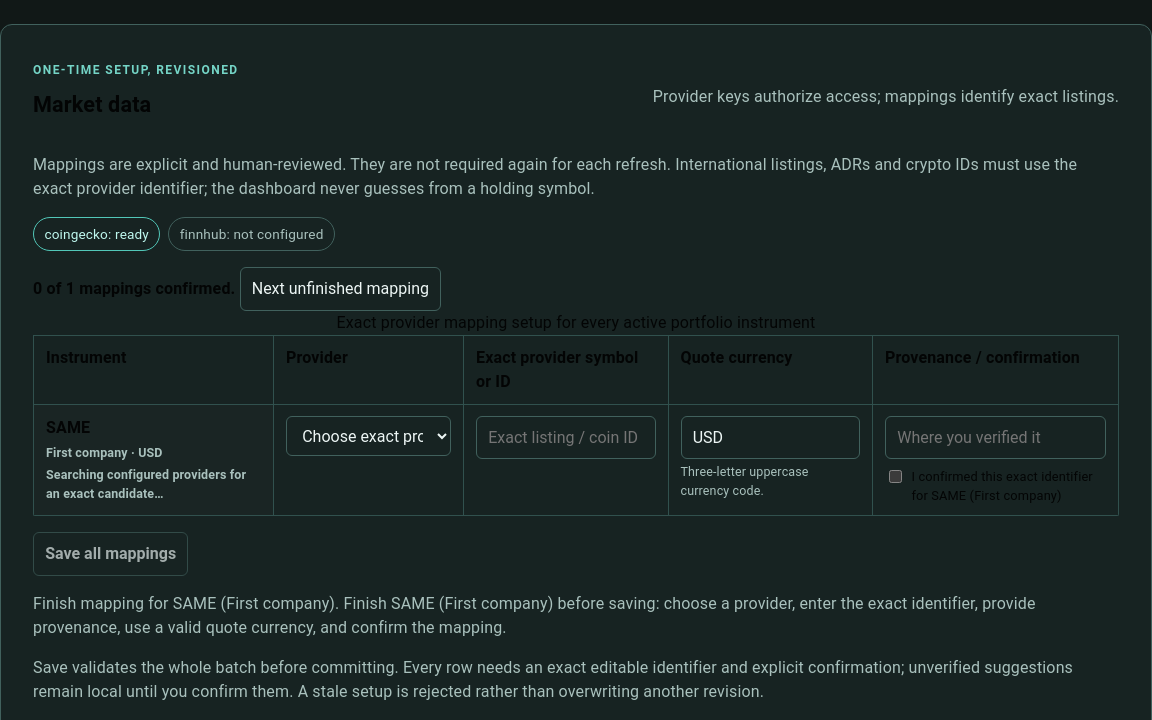
MarketDataPanel › blocks a mapping with invalid quote currency  without a save request
The width and height of the screenshot is (1152, 720).
Step 1. Select "coingecko" in the dropdown → (368, 436), box x1=286 y1=416 x2=451 y2=456
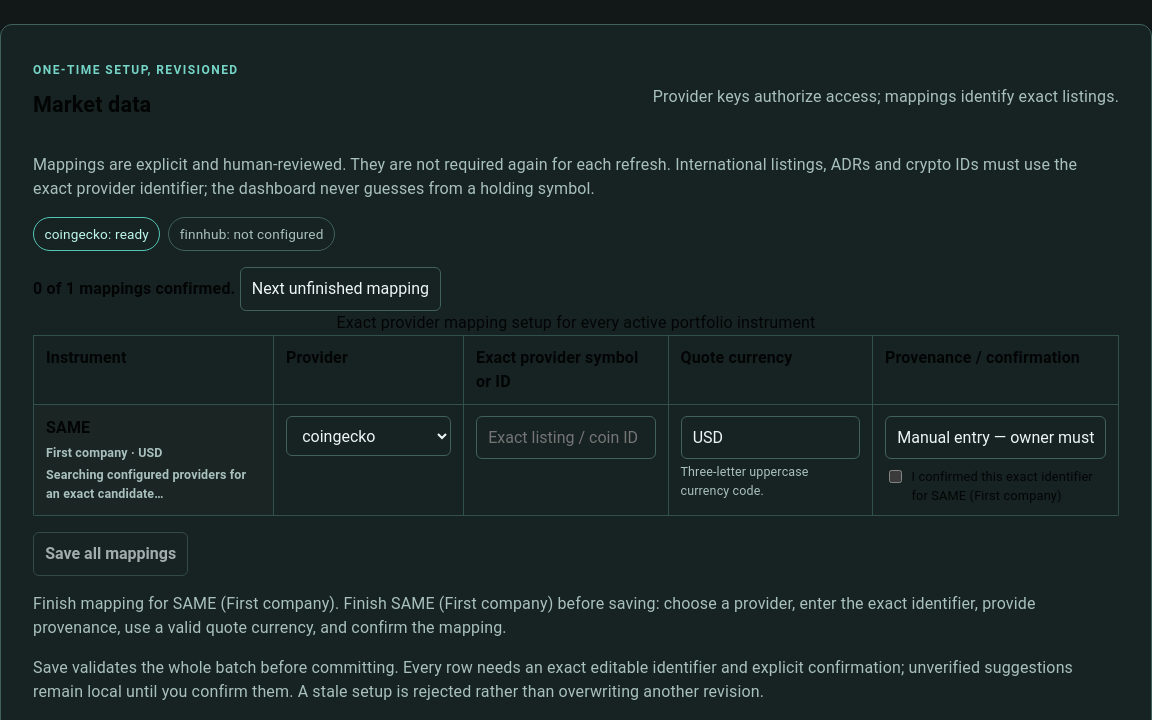
Step 2. Type "coin-0" into the field with placeholder "Exact listing / coin ID" → (566, 438), box x1=476 y1=416 x2=656 y2=459
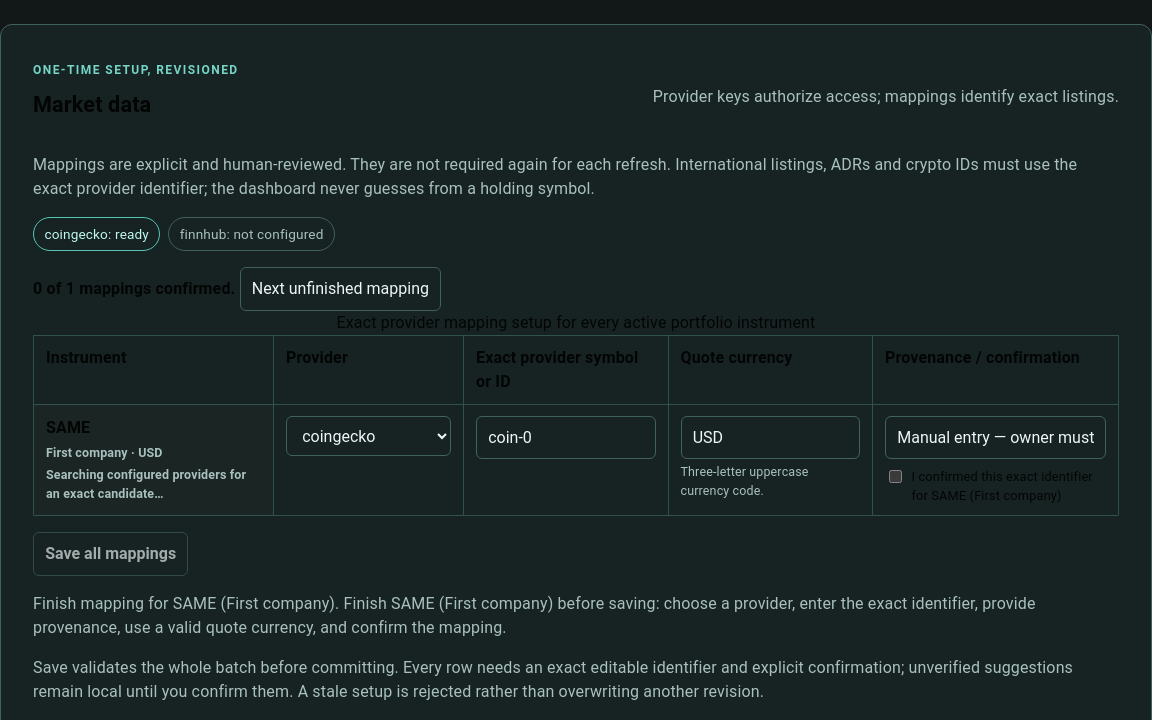
Step 3. Replace the text in the field with placeholder "Where you verified it" with "provider listing" → (996, 438), box x1=885 y1=416 x2=1106 y2=459
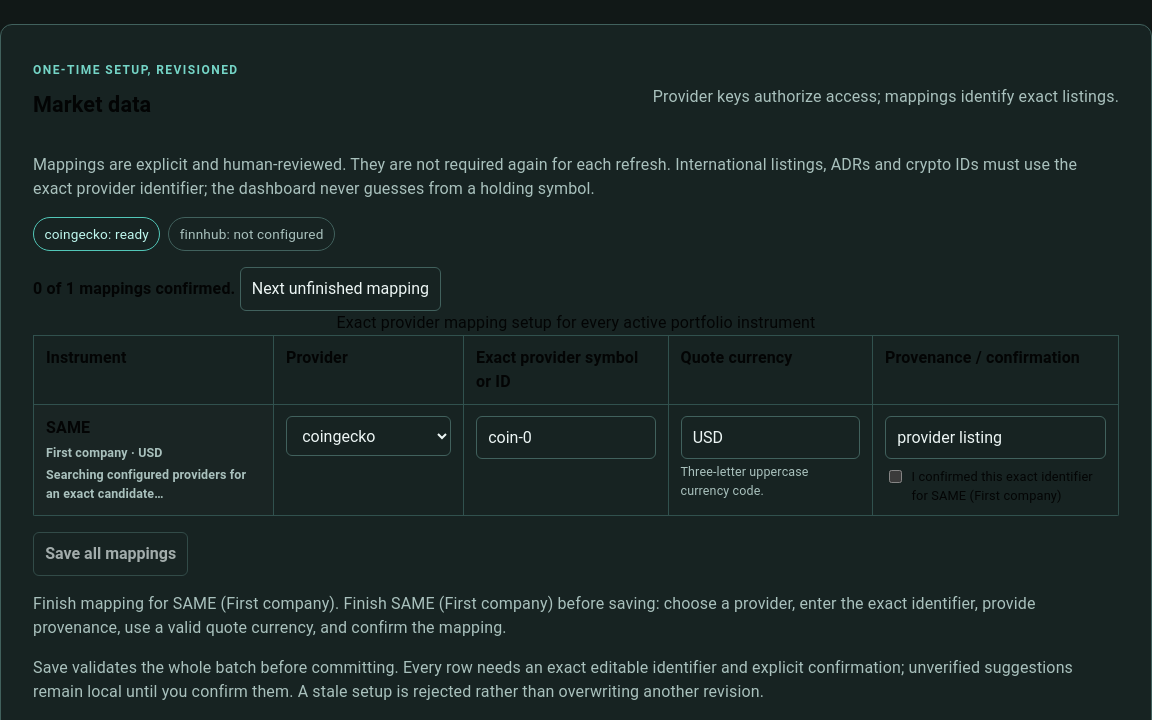
Step 4. Click the checkbox → (896, 476), box x1=889 y1=470 x2=902 y2=482
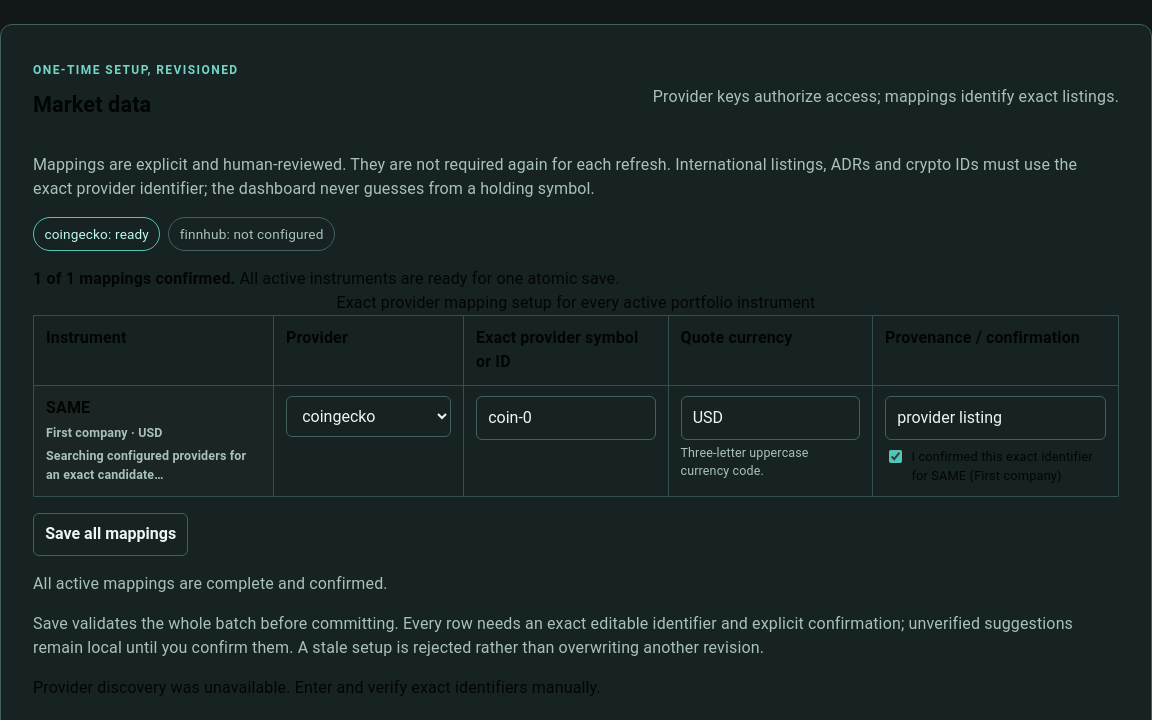
Step 5. Clear the field named "Quote currency for SAME (First company)" → (770, 418), box x1=680 y1=396 x2=860 y2=440
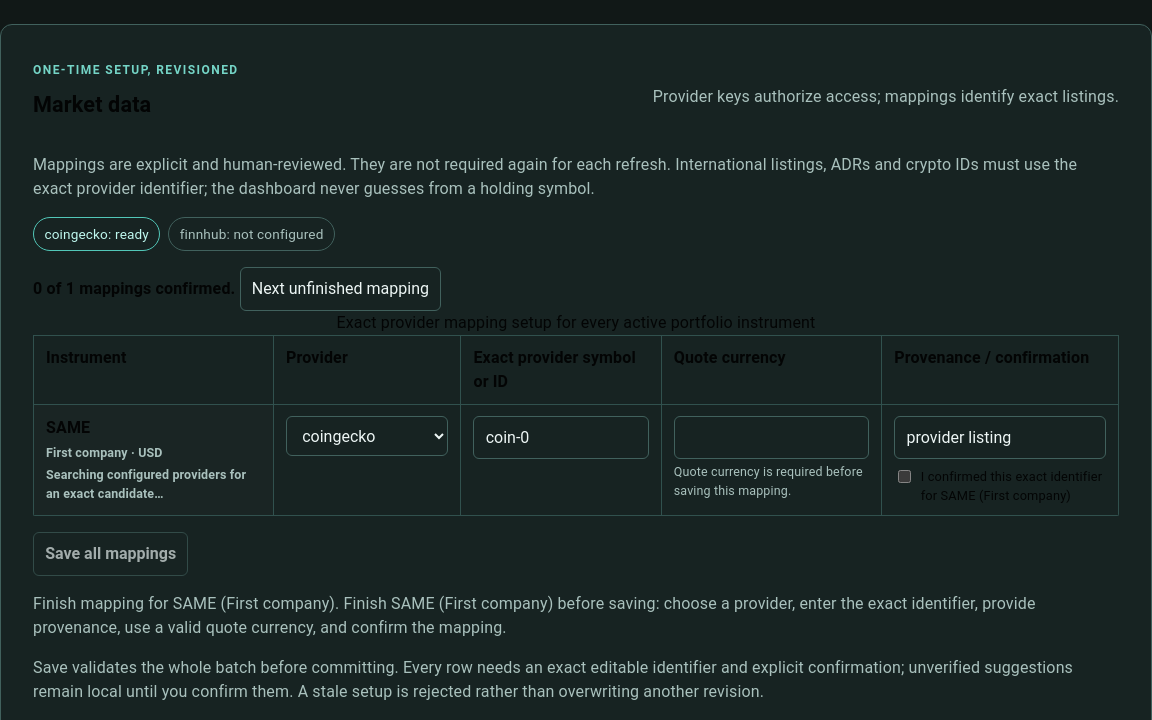
expect the text "Quote currency is required before saving this mapping." is shown: met, box x1=674 y1=463 x2=869 y2=501
expect the button "Save all mappings" is disabled: met, box x1=33 y1=532 x2=188 y2=576
